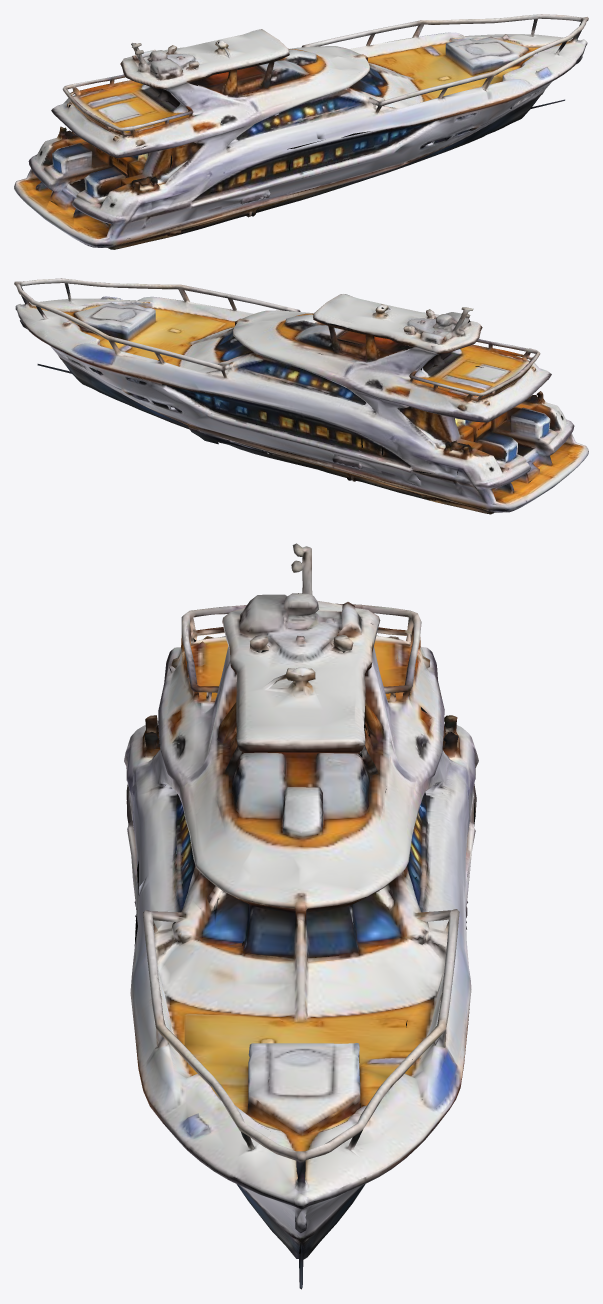
Rendered from yacht-b04.glb.
3 renders of one model, top to bottom at view 1: azimuth 30°, elevation 25°; view 2: azimuth 150°, elevation 25°; view 3: azimuth 270°, elevation 25°, orthographic. The views are drawn at different scales.
Parts seen in each view (by area): view 1: LOW; view 2: LOW; view 3: LOW.
Boxes of the visible parts, x1,y1,x2,y2 form: LOW: (14, 14, 588, 249); LOW: (14, 278, 588, 514); LOW: (124, 543, 478, 1289).
Bounding box in the file's own units: 1 × 0.3011 × 0.2824.
Materials: 1 (1 with a texture image).
